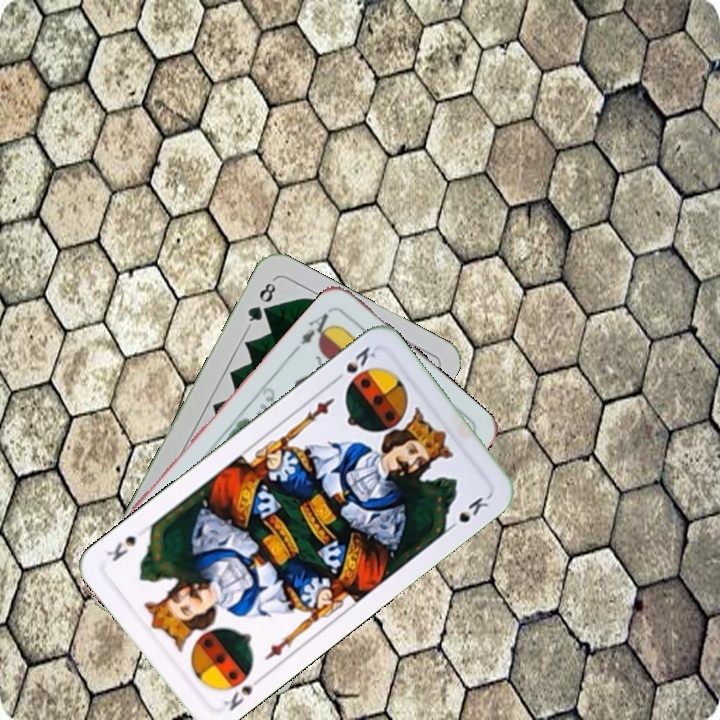EA: (296, 305, 337, 348)
G8: (243, 276, 279, 330)
SK: (328, 342, 379, 389), (219, 671, 267, 714)
